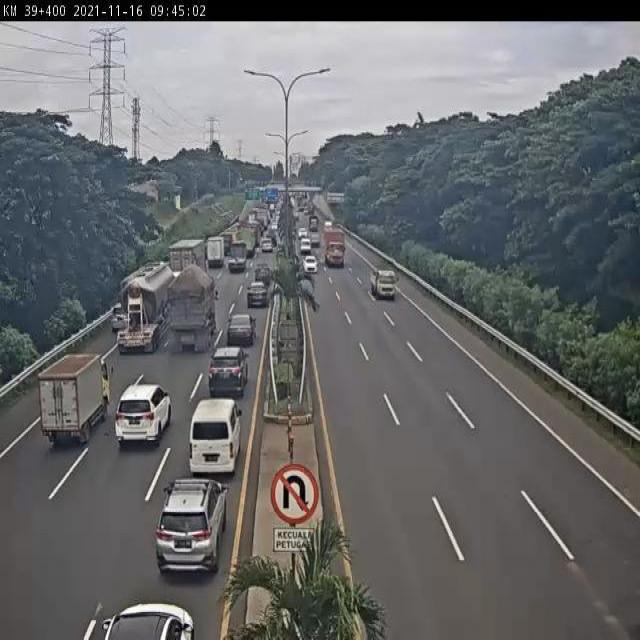car: (153, 487, 226, 580), (113, 381, 172, 444), (208, 346, 249, 398), (225, 311, 255, 345), (107, 300, 134, 332), (245, 281, 269, 308), (253, 260, 271, 285), (303, 253, 321, 275)
small bus: (187, 400, 242, 476)
small truck: (39, 352, 112, 444), (368, 267, 397, 300)
truck-l-: (163, 266, 220, 354), (168, 236, 208, 296)
truck-m-: (224, 241, 248, 276), (205, 232, 227, 269), (325, 228, 345, 268)
truck-xl-: (120, 264, 179, 353)
